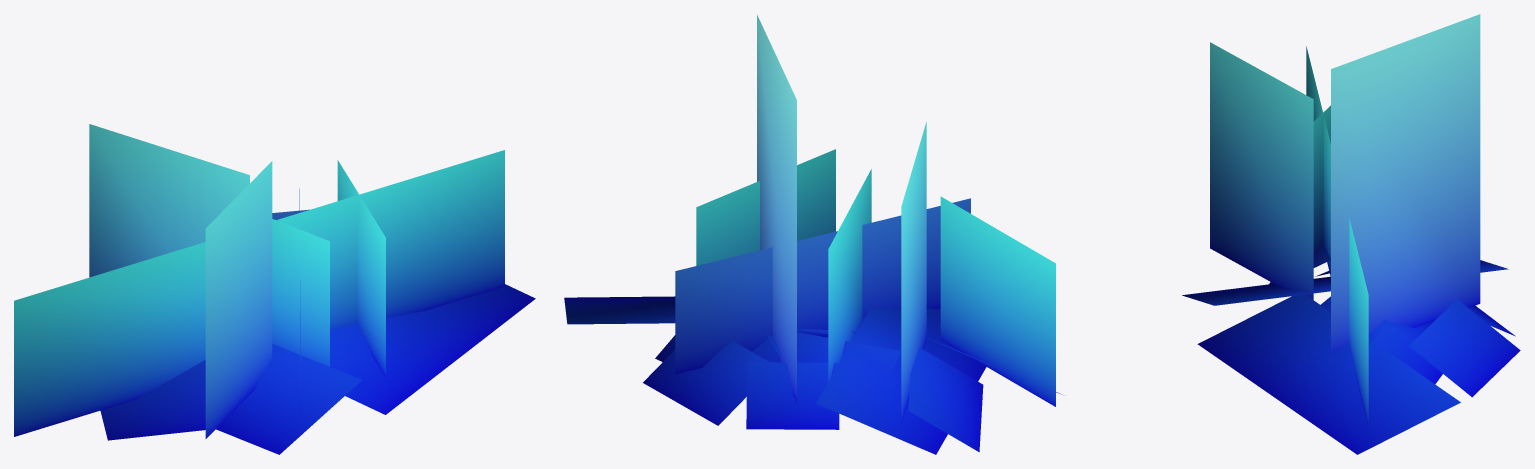
Rendered from SM_Env_Ground_Cover_01.gltf.
The picture shows the model from 3 angles, left to right: view 1: azimuth 30°, elevation 25°; view 2: azimuth 150°, elevation 25°; view 3: azimuth 270°, elevation 25°; orthographic projection. The views are drawn at different scales.
Visible parts, largest first — view 1: SM_Env_Ground_Cover_01_LOD0; view 2: SM_Env_Ground_Cover_01_LOD0; view 3: SM_Env_Ground_Cover_01_LOD0.
Boxes of the visible parts, <box> form: SM_Env_Ground_Cover_01_LOD0: <box>14,124,535,454</box>; SM_Env_Ground_Cover_01_LOD0: <box>564,15,1062,454</box>; SM_Env_Ground_Cover_01_LOD0: <box>1182,14,1520,454</box>.
Size of the model in its own units: 2.89 by 1.59 by 1.58.
